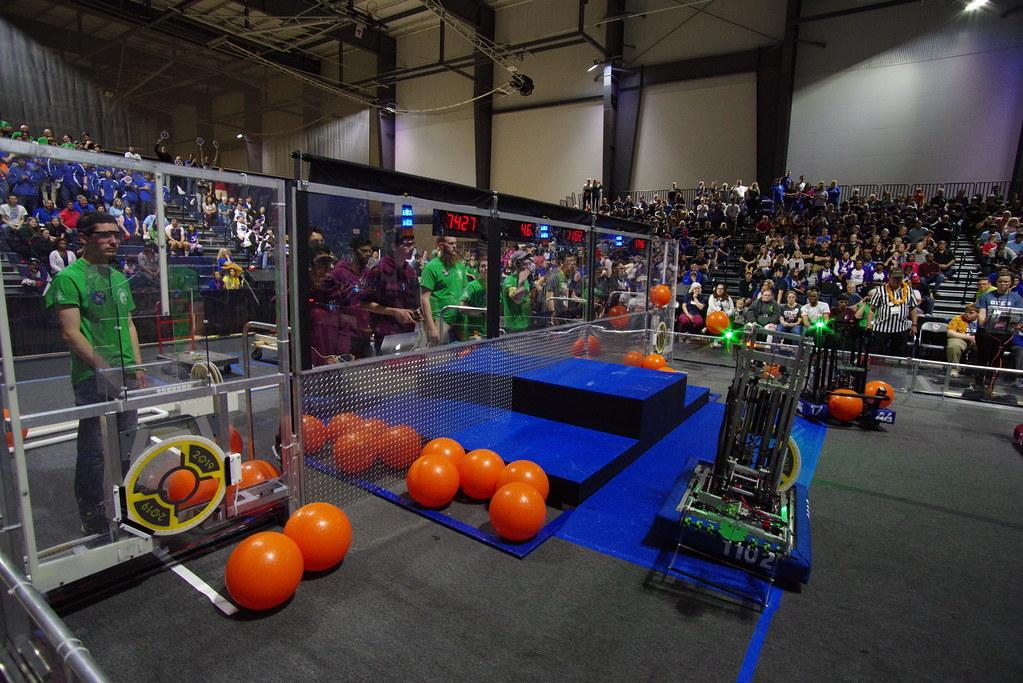robot: (643, 299, 825, 632), (786, 280, 910, 439)
